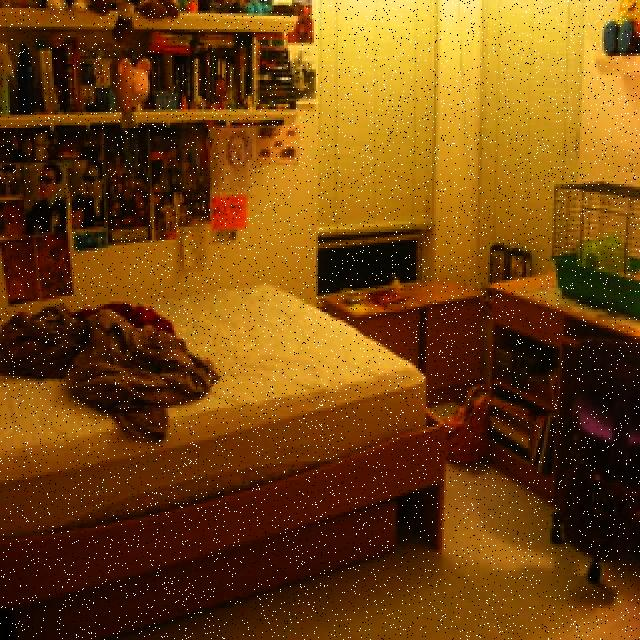bed: (0, 278, 429, 516)
